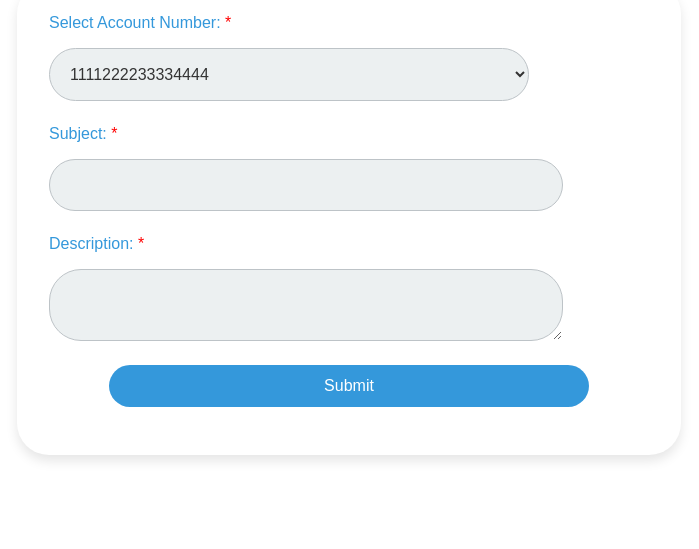
Scenario: CustomerRegisterGrievance Component › displays an error message when submission fails
Select "1111222233334444" in the dropdown labelled "Select Account Number: *" at (289,74), box [49, 48, 529, 101]
Type "Complaint Subject" into the field labelled "Subject: *".
click(306, 185); type("Complaint Subject")  # box [49, 159, 563, 211]
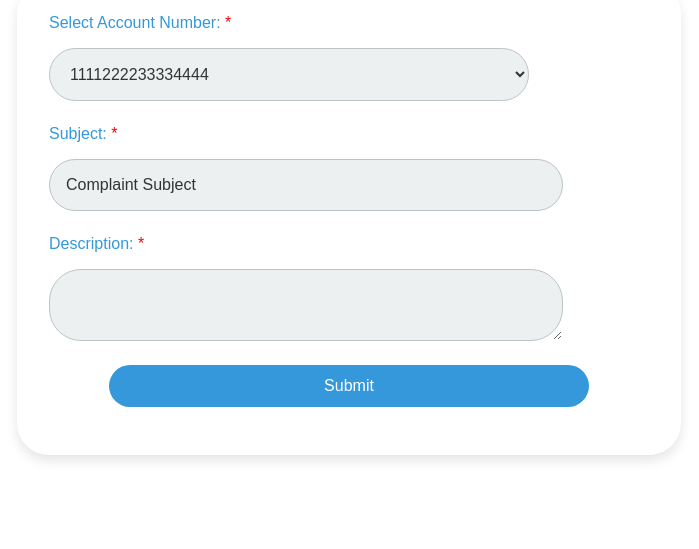
Type "Complaint Description" into the text box labelled "Description: *".
click(306, 305); type("Complaint Description")  # box [49, 269, 563, 341]
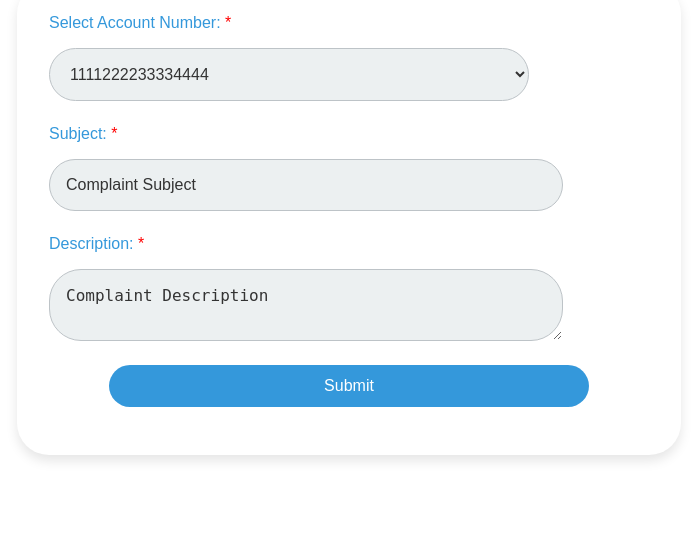
Click the button "Submit".
click(349, 386)  # box [109, 365, 589, 407]
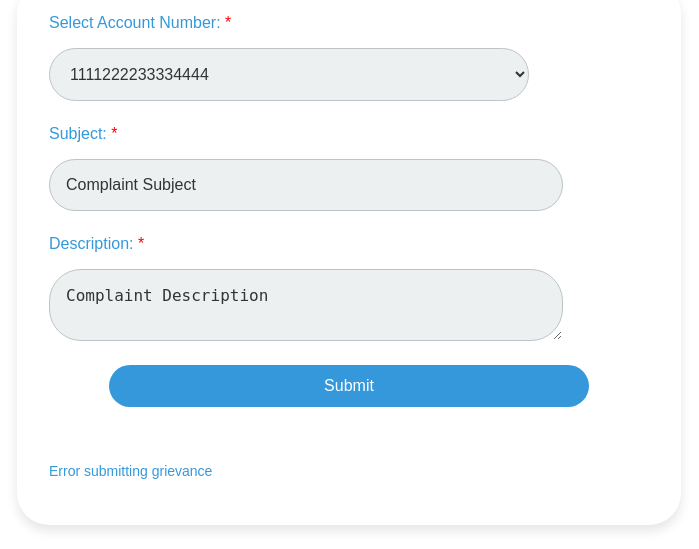
Now the text "Error submitting grievance" is shown, box [49, 463, 212, 479]
